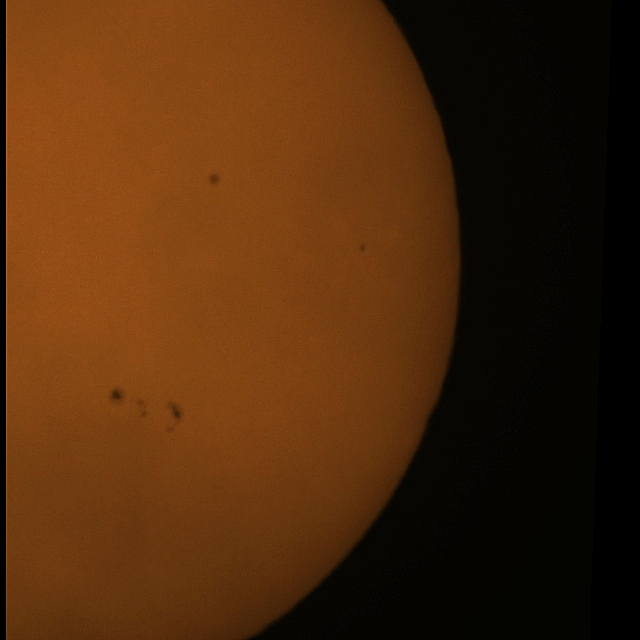sunspot: (109, 386, 151, 420), (128, 392, 150, 418), (166, 400, 184, 422), (108, 387, 124, 404), (208, 172, 221, 188)
